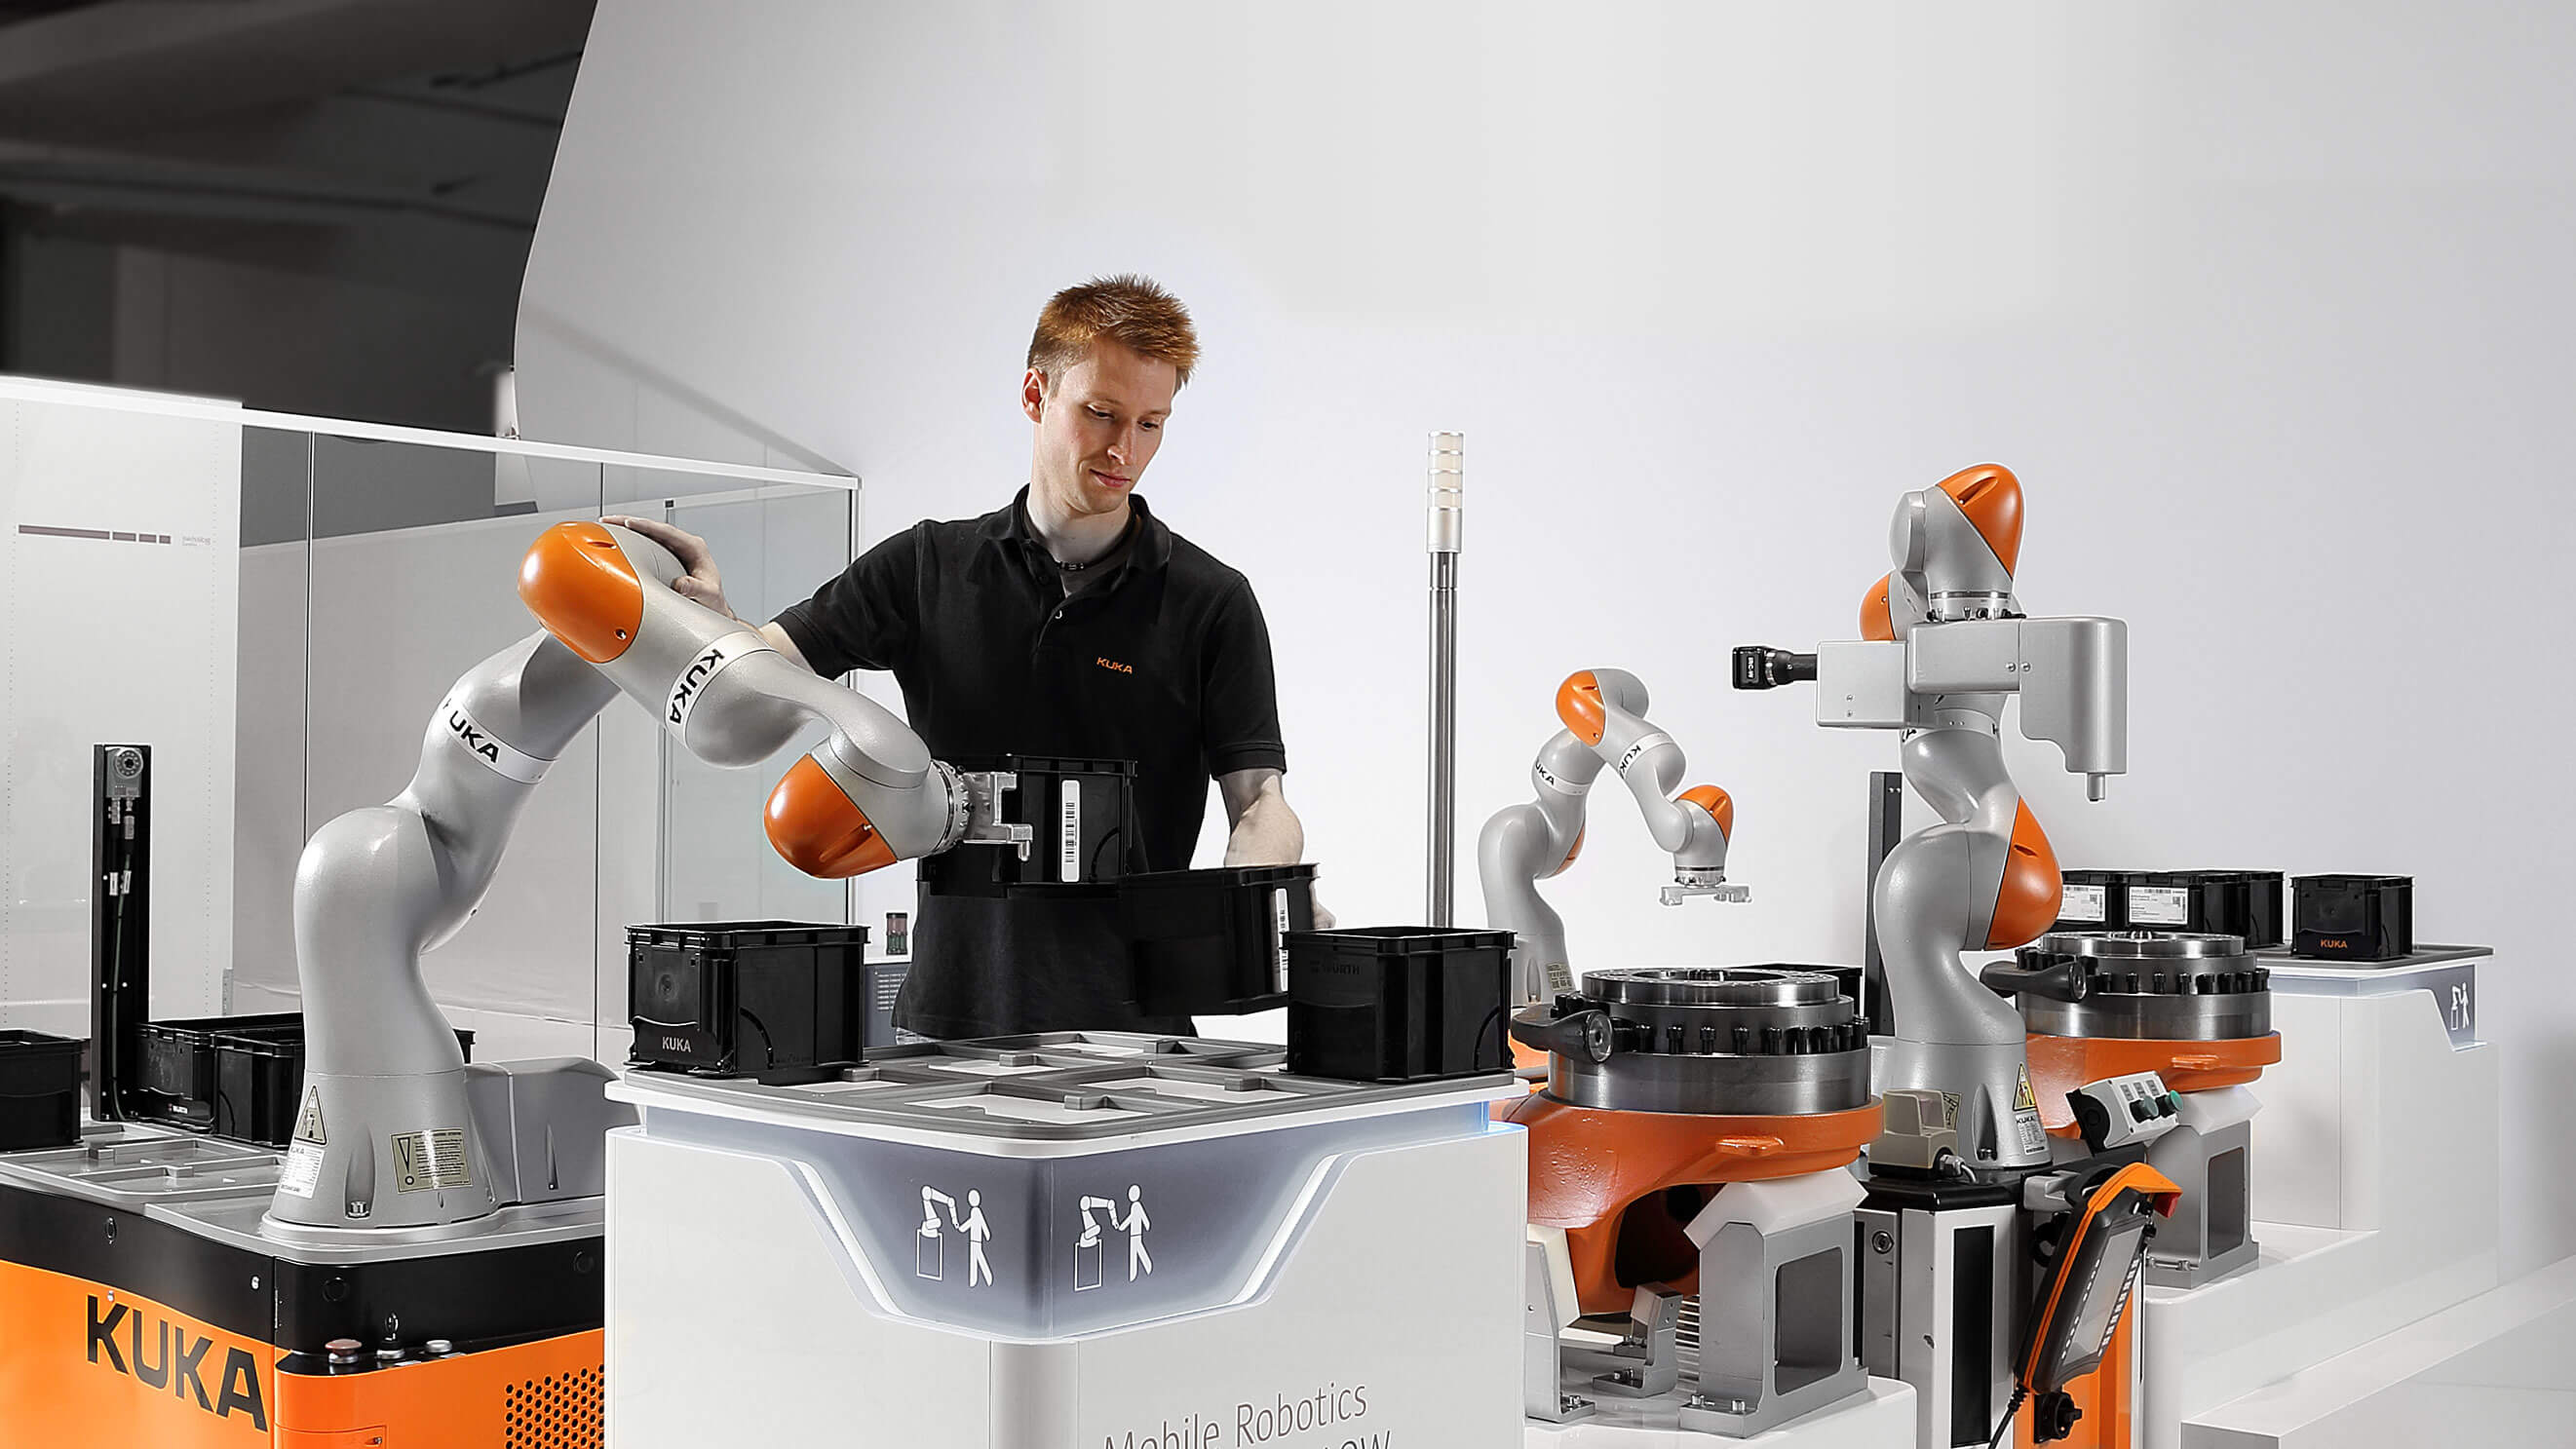person: (599, 273, 1311, 1047)
robot: (257, 515, 1035, 1247), (1734, 462, 2132, 1179), (1468, 663, 1762, 1030)
